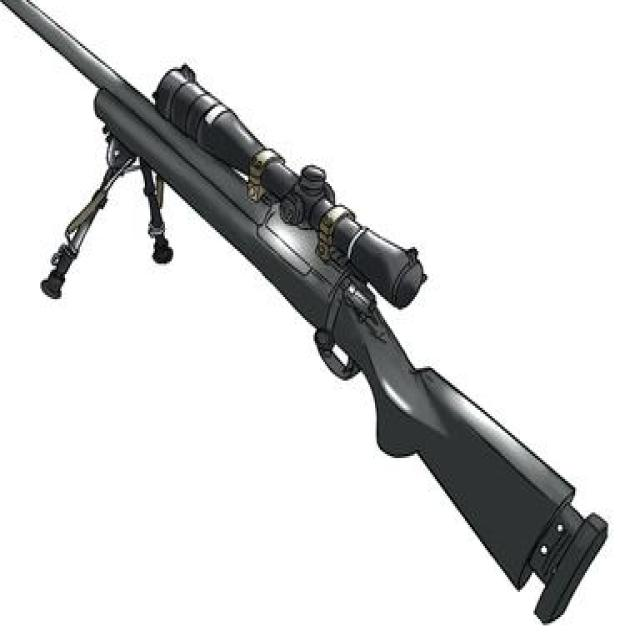Gun: (614, 14, 616, 16)
